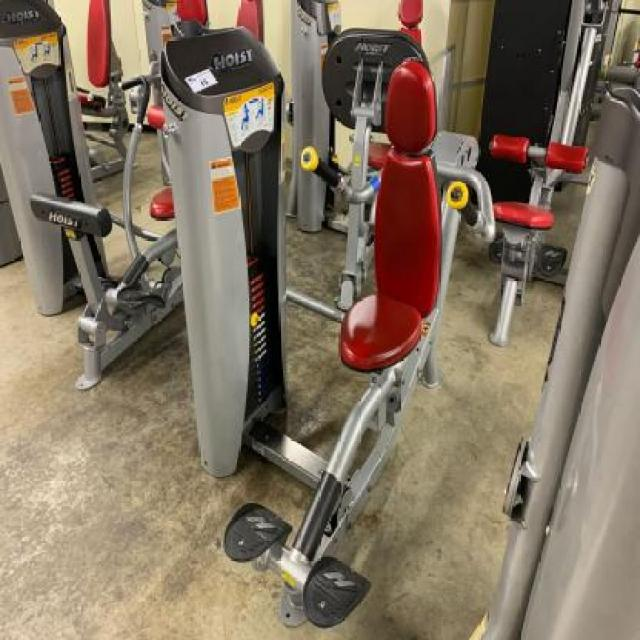seated dip machine: (174, 58, 494, 631)
